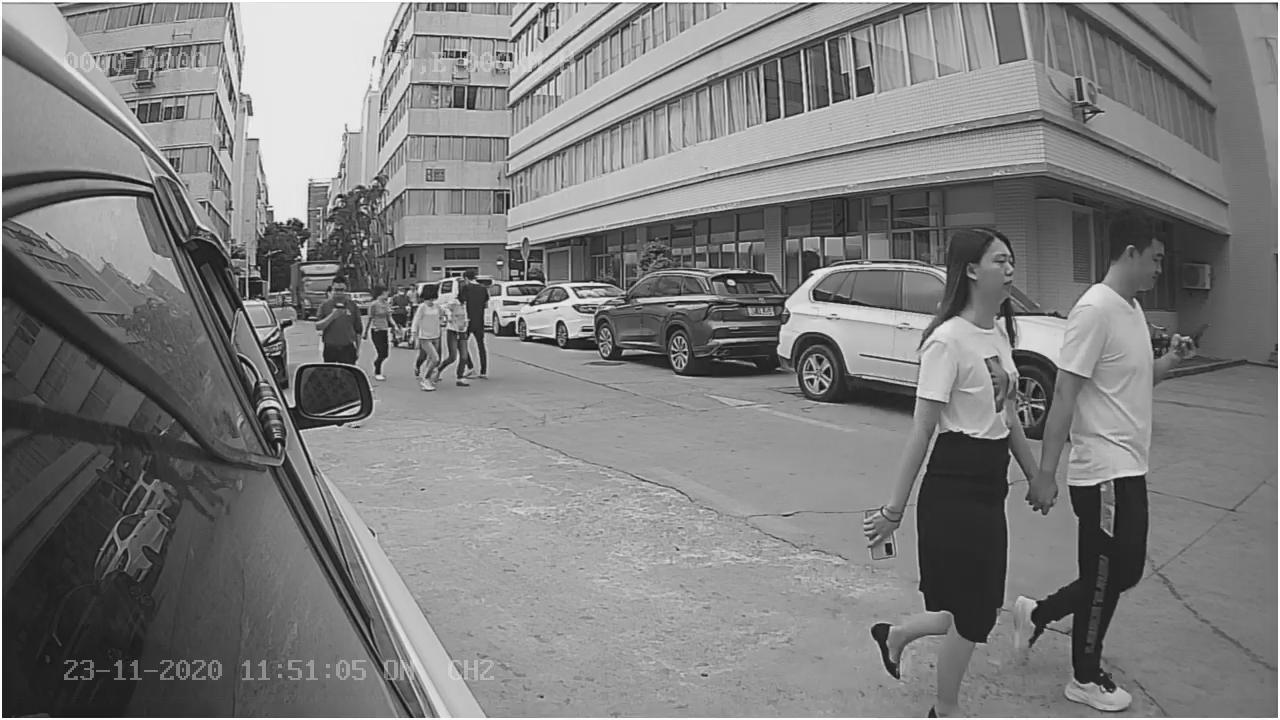person: (859, 204, 1053, 719)
